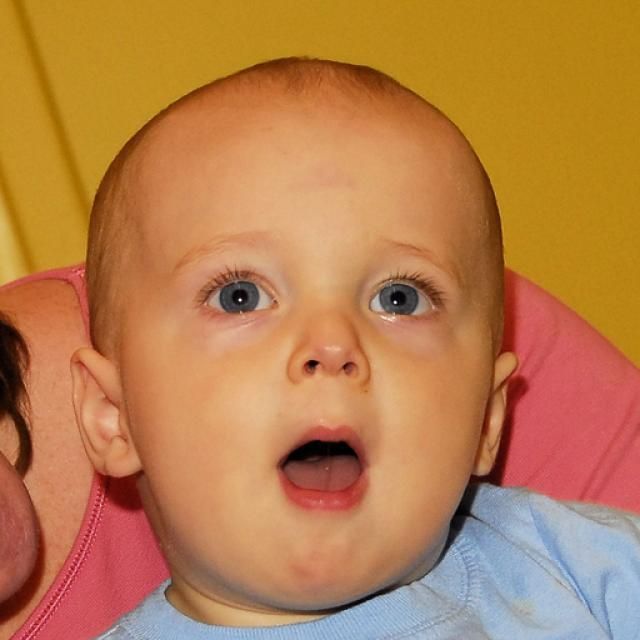surprise: (124, 80, 498, 615)
